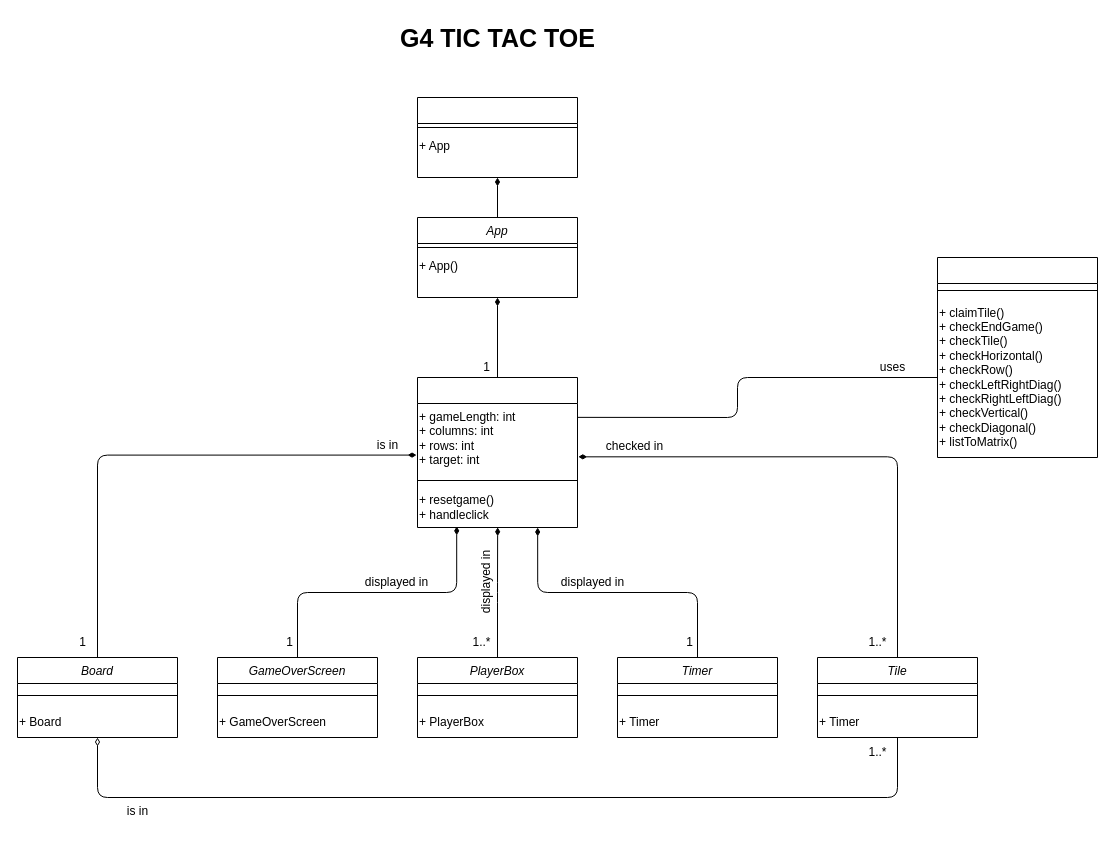
Some shapes in this 1115 by 843 pixel diagram are drawn without their labels. Each missing label, with the box of its shape:
GameLogic: (936, 256, 1098, 458)
GameScreen: (416, 376, 578, 528)
Main: (416, 96, 578, 178)
